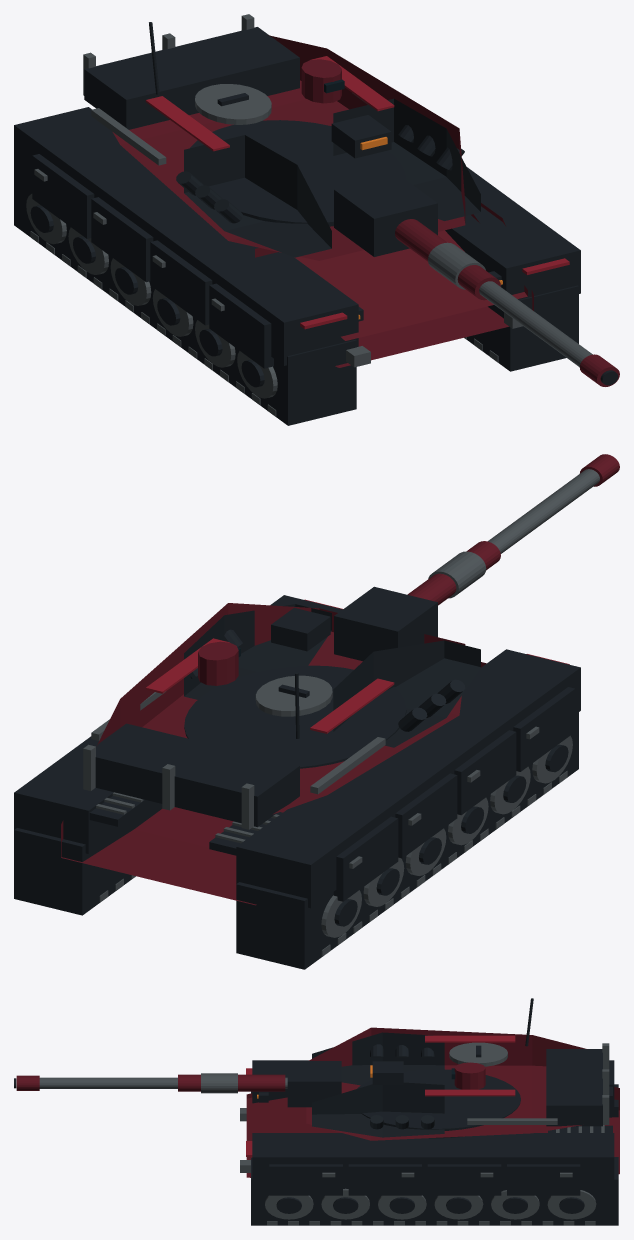
Rendered from tank.glb.
3 renders of one model, top to bottom at view 1: azimuth 30°, elevation 25°; view 2: azimuth 150°, elevation 25°; view 3: azimuth 270°, elevation 25°, orthographic. The views are drawn at different scales.
Parts seen in each view (by area): view 1: Hull, Turret shell, Barrel, Wheel, Wheel.005, Wheel.001, Wheel.004, Wheel.003, Wheel.002; view 2: Hull, Turret shell, Barrel, Wheel.005, Wheel.001, Wheel.002, Wheel.004, Wheel, Wheel.003; view 3: Hull, Turret shell, Barrel, Wheel.011, Wheel.007, Wheel.010, Wheel.008, Wheel.006, Wheel.009.
Boxes of the visible parts, <box> form: Hull: <box>14,107,580,425</box>; Turret shell: <box>83,14,480,260</box>; Barrel: <box>395,219,619,386</box>; Wheel: <box>237,351,277,398</box>; Wheel.005: <box>26,194,66,244</box>; Wheel.001: <box>195,320,235,367</box>; Wheel.004: <box>68,227,108,274</box>; Wheel.003: <box>110,258,151,305</box>; Wheel.002: <box>152,289,193,336</box>; Hull: <box>14,595,580,969</box>; Turret shell: <box>83,586,480,829</box>; Barrel: <box>407,454,619,605</box>; Wheel.005: <box>321,890,361,937</box>; Wheel.001: <box>490,766,530,814</box>; Wheel.002: <box>448,797,488,845</box>; Wheel.004: <box>363,857,404,906</box>; Wheel: <box>532,735,572,783</box>; Wheel.003: <box>405,828,446,875</box>; Hull: <box>240,1060,619,1225</box>; Turret shell: <box>287,998,609,1140</box>; Barrel: <box>14,1073,287,1093</box>; Wheel.011: <box>547,1190,596,1219</box>; Wheel.007: <box>321,1188,369,1219</box>; Wheel.010: <box>491,1190,539,1219</box>; Wheel.008: <box>378,1195,426,1219</box>; Wheel.006: <box>265,1195,313,1219</box>; Wheel.009: <box>434,1195,483,1219</box>.
Bounding box in the file's own units: 1.05 × 0.7283 × 2.57.
